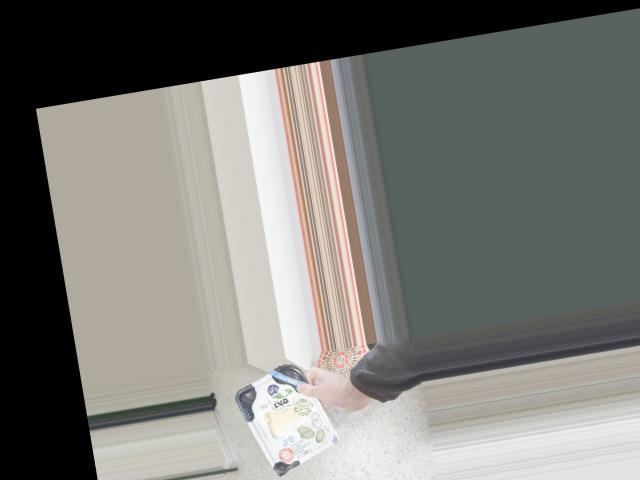cheese: (244, 370, 331, 468)
